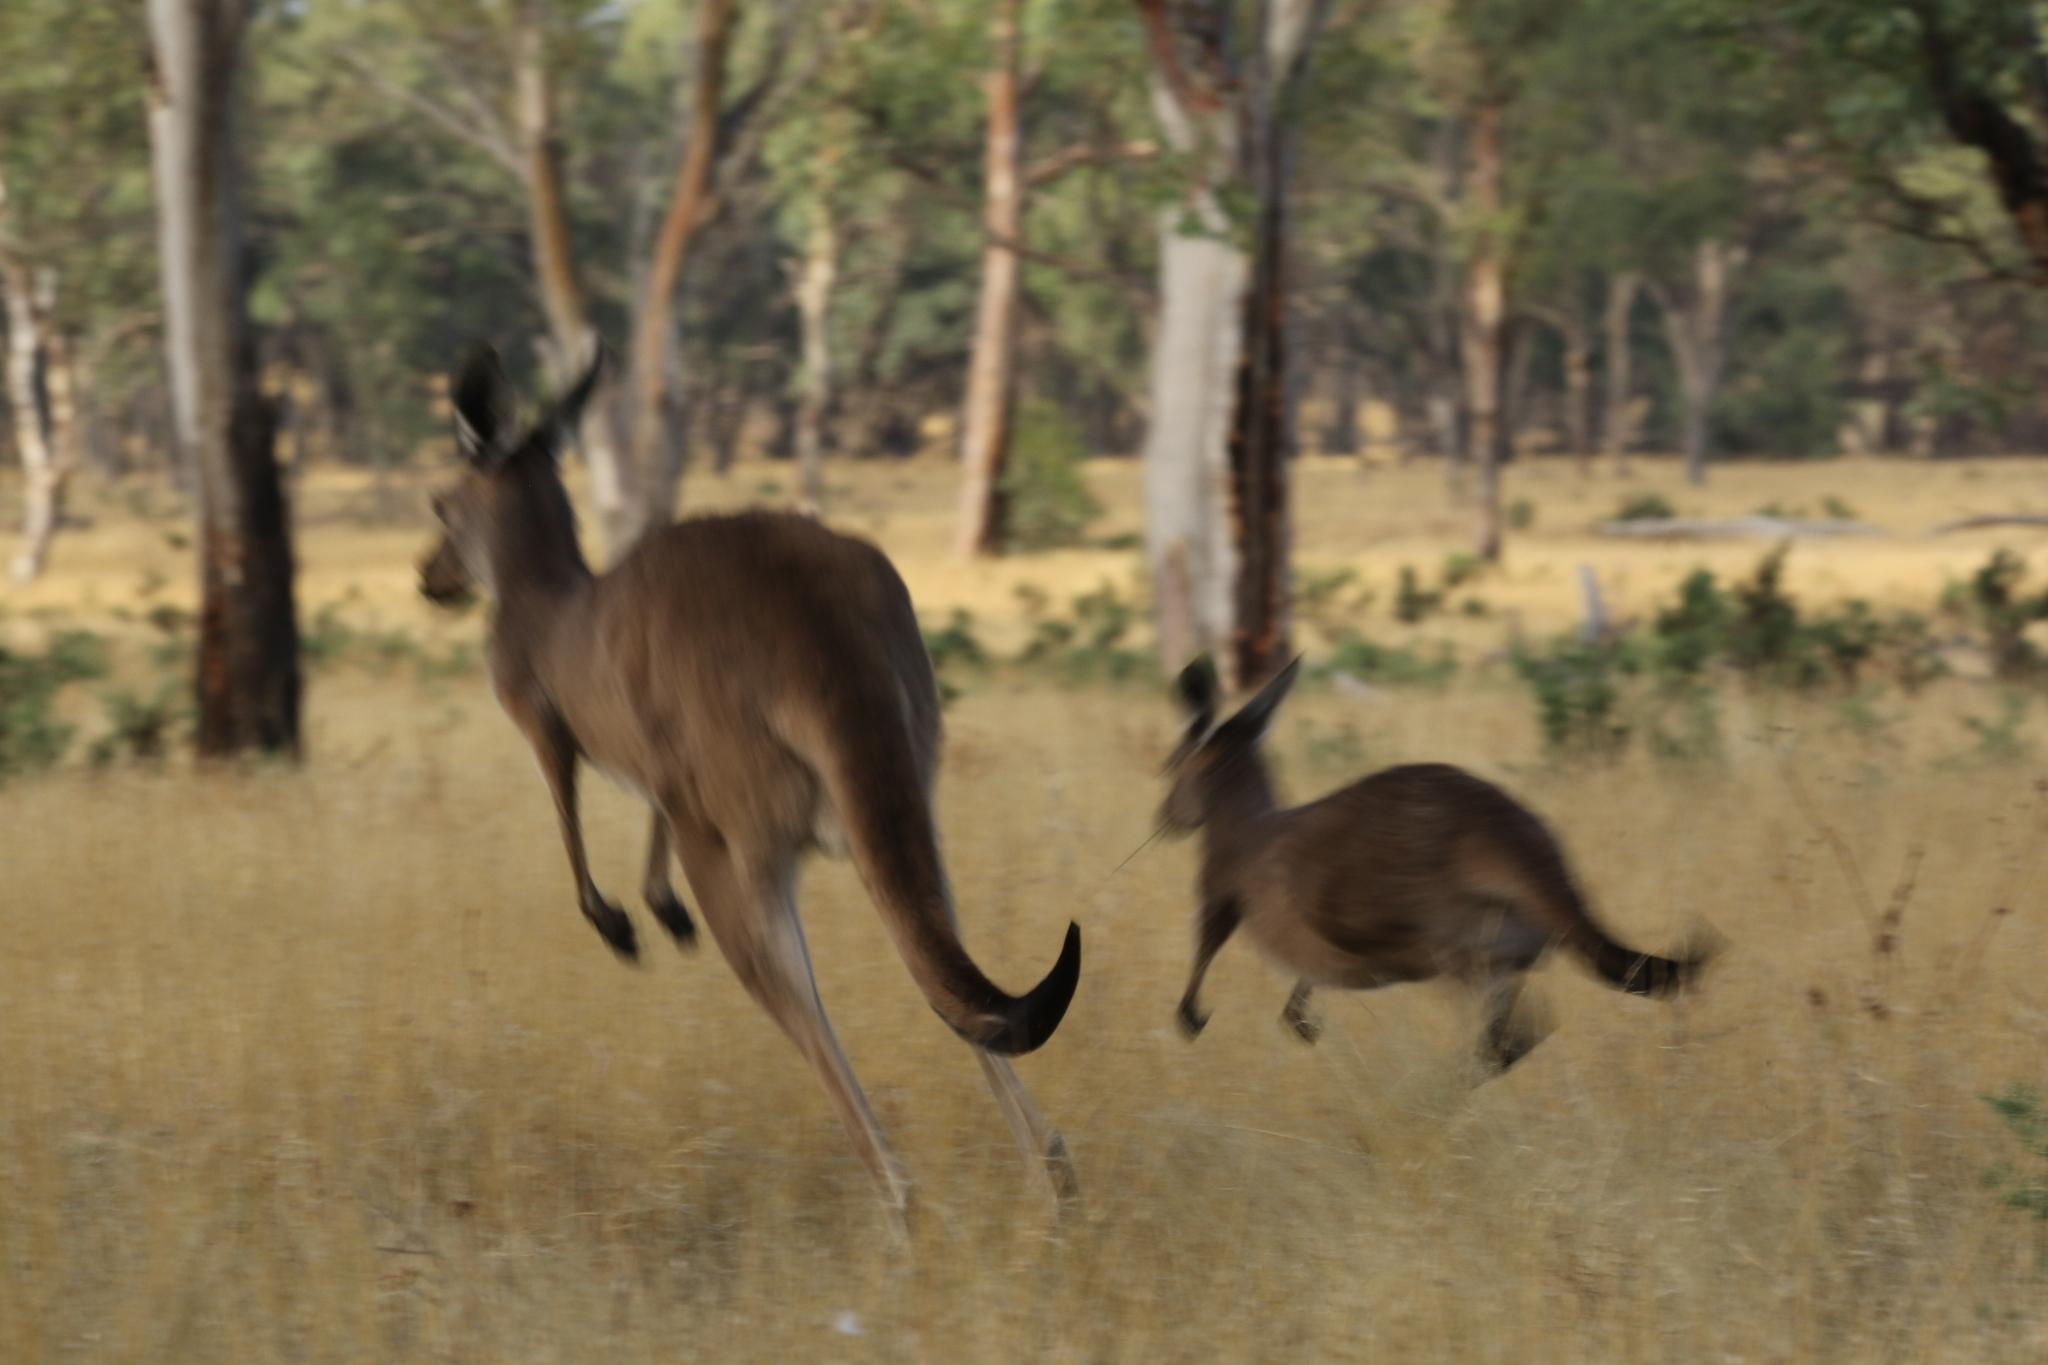Western grey kangaroo: (407, 332, 1093, 1261), (1153, 654, 1730, 1106)
